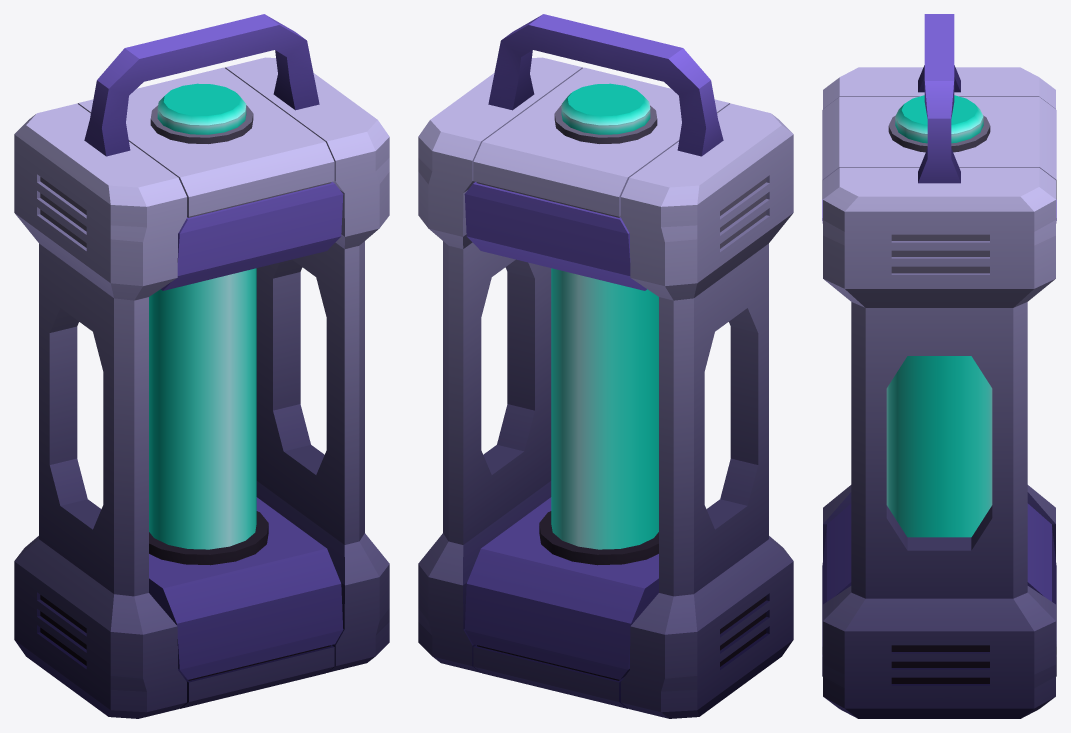
Rendered from Lantern.fbx.
3 renders of one model, left to right at view 1: azimuth 30°, elevation 25°; view 2: azimuth 150°, elevation 25°; view 3: azimuth 270°, elevation 25°, orthographic.
Parts seen in each view (by area): view 1: Body; view 2: Body; view 3: Body.
Boxes of the visible parts, box(x1,y1,x2,y2) form: Body: box(14, 14, 389, 718); Body: box(418, 14, 793, 718); Body: box(822, 14, 1056, 718).
Size of the model in its own units: 181 by 383 by 134.
Materials: 1 (1 with a texture image).
